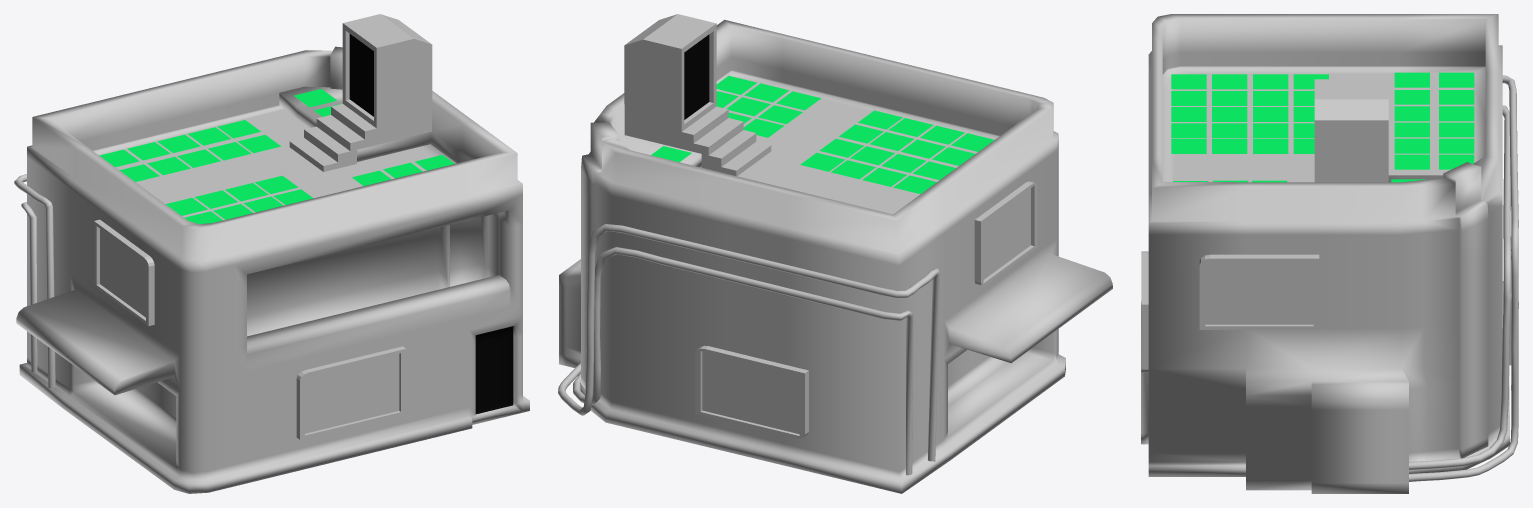
Rendered from sm_building_04.gltf.
The picture shows the model from 3 angles, left to right: view 1: azimuth 30°, elevation 25°; view 2: azimuth 150°, elevation 25°; view 3: azimuth 270°, elevation 25°; orthographic projection. The views are drawn at different scales.
Visible parts, largest first — view 1: sm_building_04_farmingshort; view 2: sm_building_04_farmingshort; view 3: sm_building_04_farmingshort, GridSpace616.026, GridSpace616.037, GridSpace616.002, GridSpace616.004, GridSpace616.006, GridSpace616.007, GridSpace616.008, GridSpace616.018, GridSpace616.022, GridSpace616.032, GridSpace616.033 (+17 smaller).
Boxes of the visible parts, x1=… form: sm_building_04_farmingshort: x1=14, y1=14, x2=529, y2=493; sm_building_04_farmingshort: x1=558, y1=14, x2=1112, y2=493; sm_building_04_farmingshort: x1=1141, y1=14, x2=1518, y2=493; GridSpace616.026: x1=1171, y1=123, x2=1206, y2=138; GridSpace616.037: x1=1171, y1=74, x2=1206, y2=89; GridSpace616.002: x1=1439, y1=138, x2=1474, y2=153; GridSpace616.004: x1=1439, y1=106, x2=1474, y2=121; GridSpace616.006: x1=1394, y1=138, x2=1429, y2=153; GridSpace616.007: x1=1394, y1=154, x2=1429, y2=169; GridSpace616.008: x1=1394, y1=106, x2=1429, y2=121; GridSpace616.018: x1=1253, y1=123, x2=1288, y2=138; GridSpace616.022: x1=1212, y1=123, x2=1247, y2=138; GridSpace616.032: x1=1439, y1=72, x2=1474, y2=87; GridSpace616.033: x1=1394, y1=72, x2=1429, y2=87.
Size of what is drawn, in the model's own units: 15.46 by 11.14 by 10.7.
